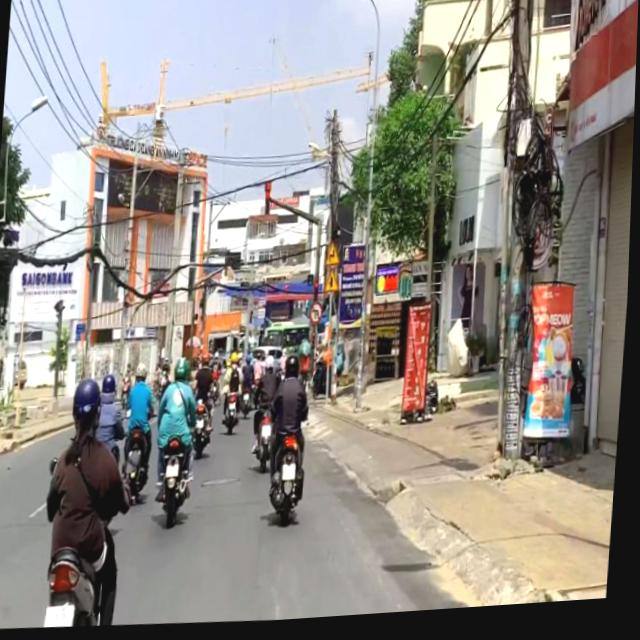Giao nhau voi duong khong uu tien ben trai: (325, 271, 343, 299)
Nhieu cho ngoat lien tiep ben phai: (326, 244, 343, 271)
